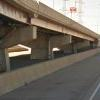Bridge: (4, 0, 95, 53)
